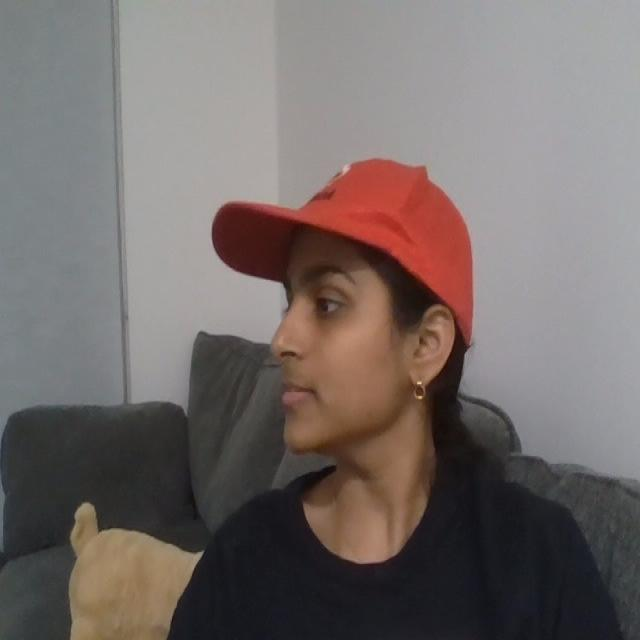Hat: (204, 131, 489, 285)
